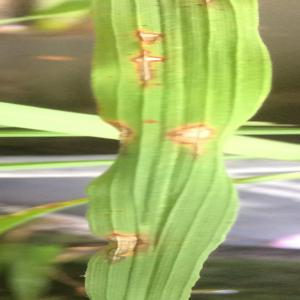Rice_Blast: (90, 223, 156, 264), (119, 53, 182, 90), (163, 121, 213, 155), (103, 113, 144, 154), (124, 25, 169, 49)
